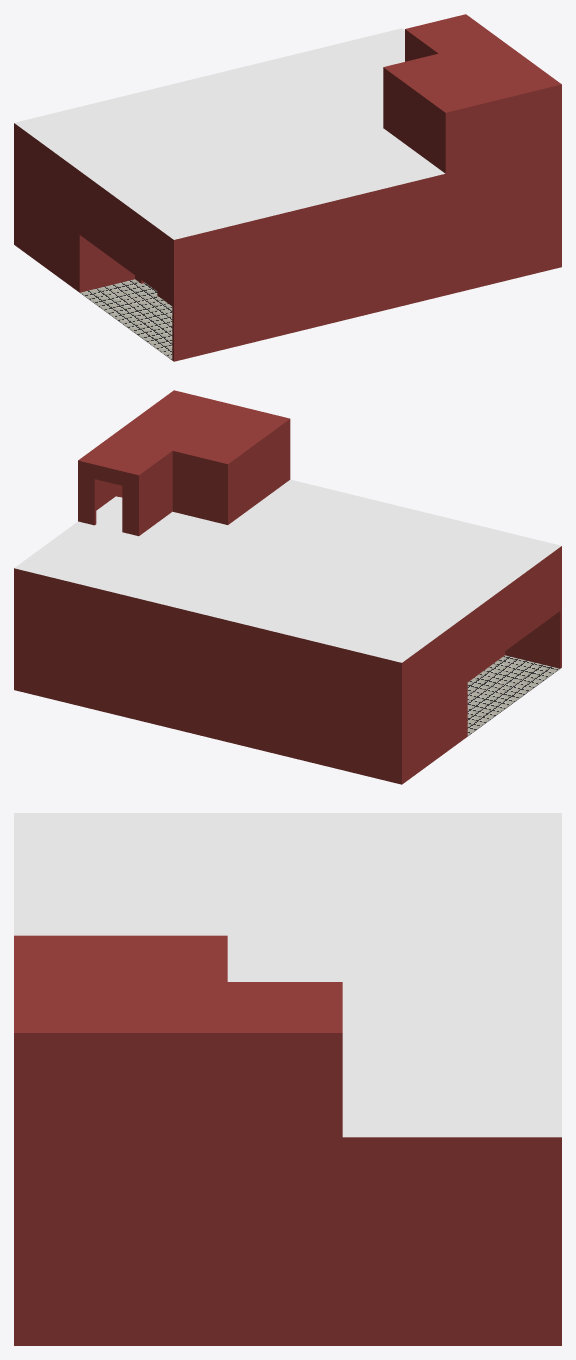
File: Home2.fbx
3 renders of one model, top to bottom at view 1: azimuth 30°, elevation 25°; view 2: azimuth 150°, elevation 25°; view 3: azimuth 270°, elevation 25°, orthographic. The views are drawn at different scales.
Visible parts, largest first — view 1: Roof, OutsideWallEast0.1, OutsideWallEast1.1, Roof1, RoofWall6, OutsideWallSouth1.1, OutsideWallSouth0.1, OutsideWallSouth1.2, Floor0, RoofWall1, Floor1, MainWall0.1 (+1 smaller); view 2: Roof, OutsideWallWest0.1, OutsideWallWest1.1, Roof1, OutsideWallSouth1.1, OutsideWallSouth0.1, OutsideWallSouth1.2, Floor0, RoofWall1, RoofWall2, RoofWall4, RoofWall3 (+3 smaller); view 3: Roof, OutsideWallNorth0.1, OutsideWallNorth1.1, RoofWall5, Roof1, Floor1.
Part boxes in pixels (left/top/right/bottom): Roof: left=14, top=28, right=561, bottom=242; OutsideWallEast0.1: left=172, top=210, right=559, bottom=361; OutsideWallEast1.1: left=172, top=149, right=559, bottom=300; Roof1: left=383, top=14, right=561, bottom=115; RoofWall6: left=444, top=88, right=559, bottom=173; OutsideWallSouth1.1: left=79, top=174, right=172, bottom=299; OutsideWallSouth0.1: left=14, top=187, right=77, bottom=291; OutsideWallSouth1.2: left=14, top=126, right=77, bottom=230; Floor0: left=80, top=279, right=172, bottom=359; RoofWall1: left=384, top=71, right=443, bottom=172; Floor1: left=14, top=184, right=561, bottom=303; MainWall0.1: left=78, top=234, right=134, bottom=292; Roof: left=14, top=479, right=561, bottom=665; OutsideWallWest0.1: left=16, top=633, right=399, bottom=783; OutsideWallWest1.1: left=16, top=572, right=399, bottom=722; Roof1: left=78, top=390, right=290, bottom=478; OutsideWallSouth1.1: left=467, top=550, right=560, bottom=675; OutsideWallSouth0.1: left=399, top=680, right=465, bottom=784; OutsideWallSouth1.2: left=399, top=619, right=465, bottom=723; Floor0: left=467, top=655, right=559, bottom=736; RoofWall1: left=229, top=423, right=288, bottom=523; RoofWall2: left=172, top=454, right=229, bottom=524; RoofWall4: left=80, top=464, right=136, bottom=535; RoofWall3: left=136, top=454, right=172, bottom=536; Roof: left=14, top=813, right=561, bottom=1142; OutsideWallNorth0.1: left=14, top=1246, right=561, bottom=1345; OutsideWallNorth1.1: left=14, top=1142, right=561, bottom=1241; RoofWall5: left=14, top=1038, right=342, bottom=1137; Roof1: left=14, top=935, right=342, bottom=1037; Floor1: left=14, top=1241, right=561, bottom=1246.
Size of the model in its own units: 700 by 315 by 500.
